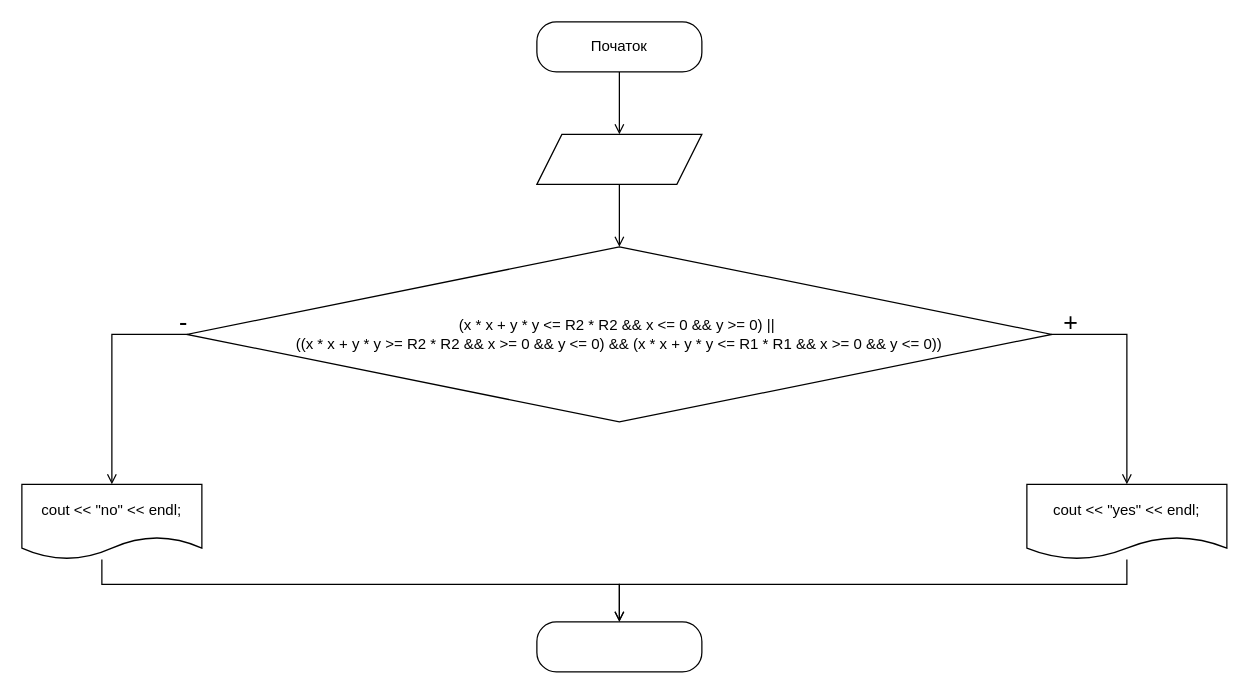
This 1249x694 diagram has some shape labels left out. The shapes that lost their labels are listed below. From the top down, each one's box as (x1, y1, x2, y2) in pixels, then its label:
(536, 133, 702, 184): R1, R2, x, y
(536, 621, 702, 672): Кінець
